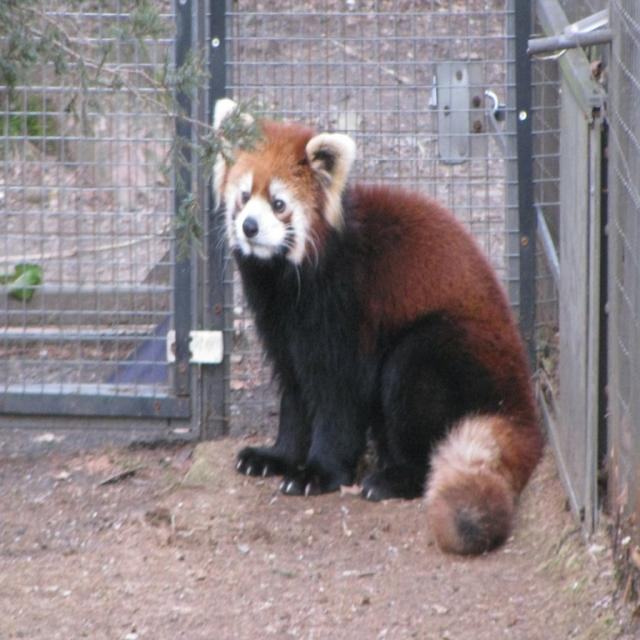Bear: (206, 97, 544, 557)
